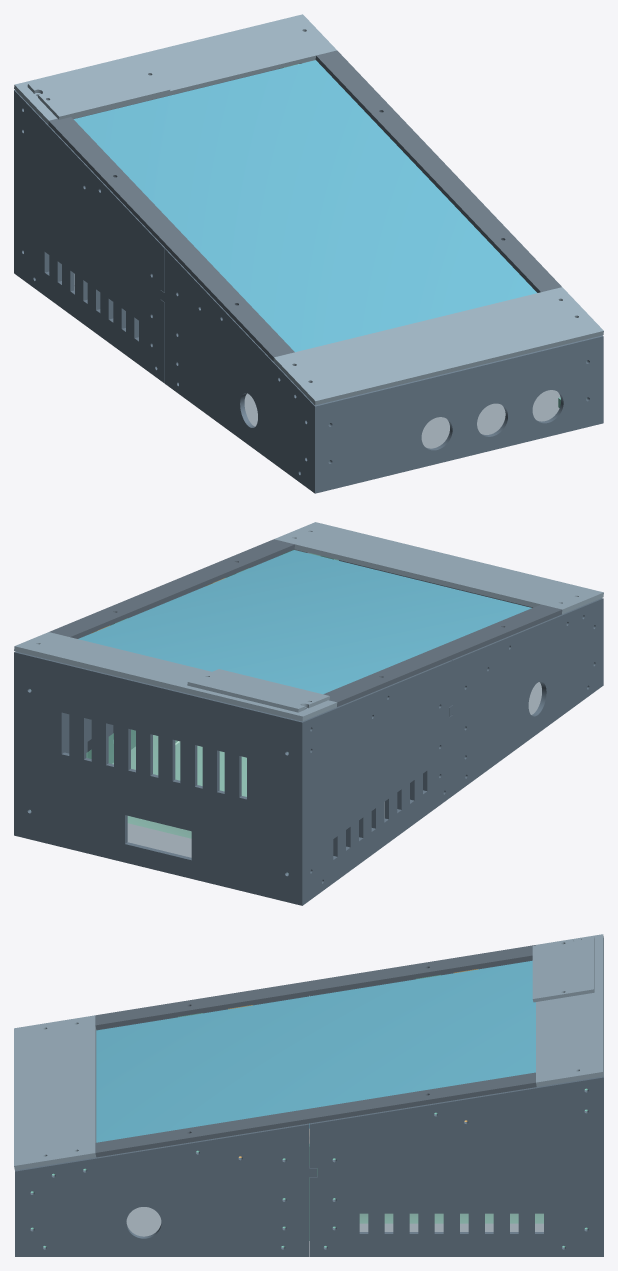
Rendered from cabinet-v1_6.glb.
The picture shows the model from 3 angles, top to bottom: view 1: azimuth 30°, elevation 25°; view 2: azimuth 150°, elevation 25°; view 3: azimuth 270°, elevation 25°; orthographic projection. The views are drawn at different scales.
Parts seen in each view (by area): view 1: REFERENCE_Monitor, left_rear_wall, front_button_panel, left_front_wall, front_cable_lid, rear_control_deck, bezel_right_a1_a2, bezel_left_one_piece, control_hatch, bottom_front; view 2: rear_vent_panel, REFERENCE_Monitor, left_rear_wall, left_front_wall, front_cable_lid, rear_control_deck, bezel_right_a1_a2, bezel_left_one_piece, bottom_rear, control_hatch, REFERENCE_Dell_3050, right_rear_wall; view 3: REFERENCE_Monitor, right_rear_wall, right_front_wall, front_cable_lid, bezel_right_a1_a2, bezel_left_one_piece, rear_control_deck, control_hatch, bottom_rear, bottom_front, REFERENCE_Dell_3050.
Part boxes in pixels (box(x1,y1,x2,y2)): REFERENCE_Monitor: box(73, 60, 536, 352); left_rear_wall: box(14, 90, 164, 383); front_button_panel: box(319, 336, 598, 492); left_front_wall: box(160, 248, 319, 493); front_cable_lid: box(273, 287, 603, 405); rear_control_deck: box(14, 14, 336, 124); bezel_right_a1_a2: box(315, 50, 561, 292); bezel_left_one_piece: box(48, 117, 294, 360); control_hatch: box(27, 56, 170, 119); bottom_front: box(244, 390, 560, 448); rear_vent_panel: box(18, 652, 299, 904); REFERENCE_Monitor: box(78, 550, 531, 694); left_rear_wall: box(298, 660, 452, 905); left_front_wall: box(449, 598, 603, 795); front_cable_lid: box(274, 522, 603, 614); rear_control_deck: box(14, 632, 337, 721); bezel_right_a1_a2: box(49, 539, 294, 638); bezel_left_one_piece: box(323, 604, 562, 706); bottom_rear: box(112, 735, 384, 857); control_hatch: box(187, 669, 329, 712); REFERENCE_Dell_3050: box(86, 729, 246, 838); right_rear_wall: box(14, 601, 168, 836); REFERENCE_Monitor: box(96, 960, 535, 1142); right_rear_wall: box(309, 1076, 603, 1256); right_front_wall: box(15, 1123, 316, 1256); front_cable_lid: box(14, 1015, 96, 1170); bezel_right_a1_a2: box(95, 1072, 536, 1157); bezel_left_one_piece: box(95, 945, 535, 1029); rear_control_deck: box(536, 934, 603, 1086); control_hatch: box(532, 936, 594, 1002); bottom_rear: box(359, 1213, 543, 1231); bottom_front: box(126, 1207, 161, 1236); REFERENCE_Dell_3050: box(359, 1213, 543, 1223).
Size of the model in its own units: 0.26 by 0.1646 by 0.4707.
